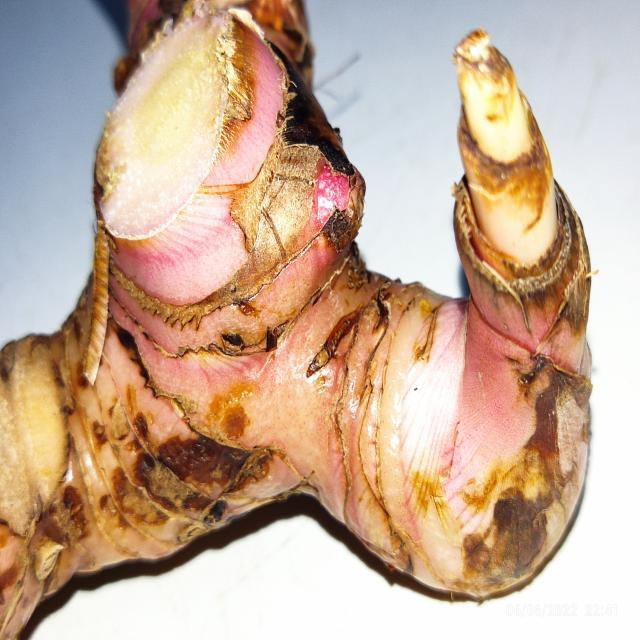ginger: (8, 26, 586, 568)
